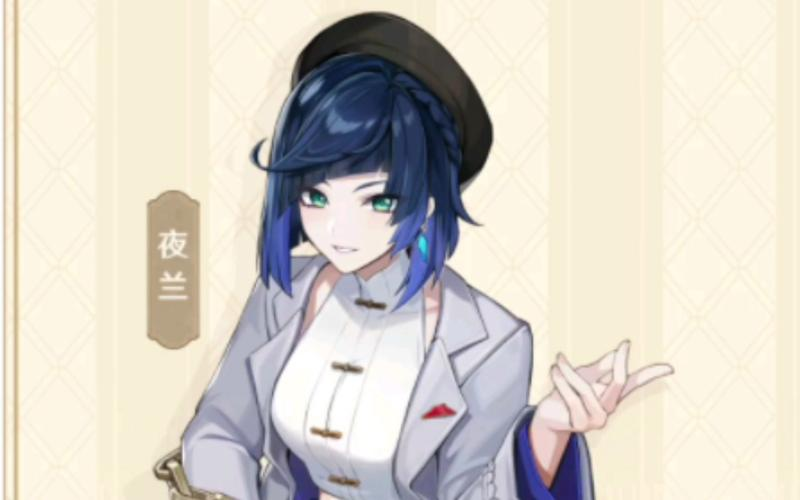夜兰: (169, 8, 678, 500)
